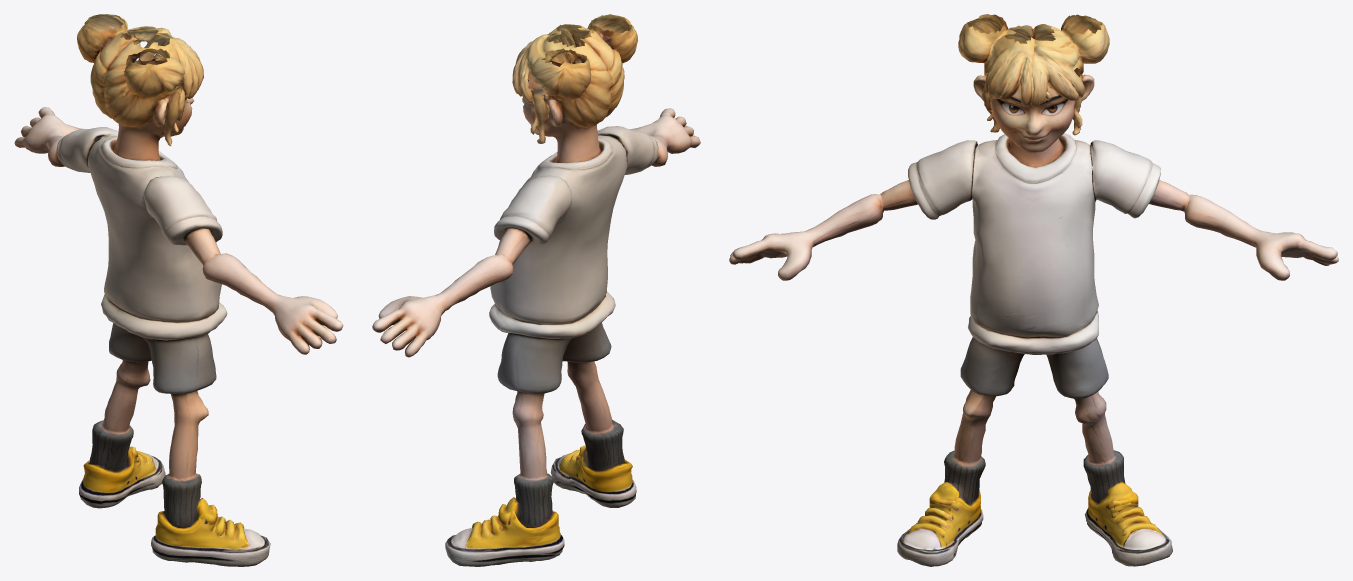
The picture shows the model from 3 angles, left to right: view 1: azimuth 30°, elevation 25°; view 2: azimuth 150°, elevation 25°; view 3: azimuth 270°, elevation 25°; orthographic projection.
Visible parts, largest first — view 1: tripo_node_6a3ba7da; view 2: tripo_node_6a3ba7da; view 3: tripo_node_6a3ba7da.
Boxes of the visible parts, left/top/right/bottom form: tripo_node_6a3ba7da: left=14, top=14, right=343, bottom=566; tripo_node_6a3ba7da: left=372, top=14, right=700, bottom=566; tripo_node_6a3ba7da: left=729, top=14, right=1338, bottom=566.
Bounding box in the file's own units: 0.2172 × 0.9139 × 1.
Materials: 1 (1 with a texture image).
